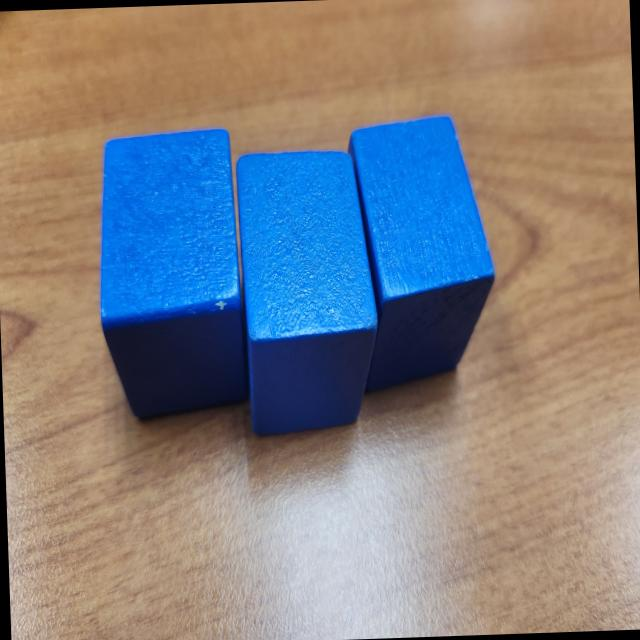blue: (94, 126, 251, 422), (345, 115, 499, 396), (235, 149, 382, 439)
